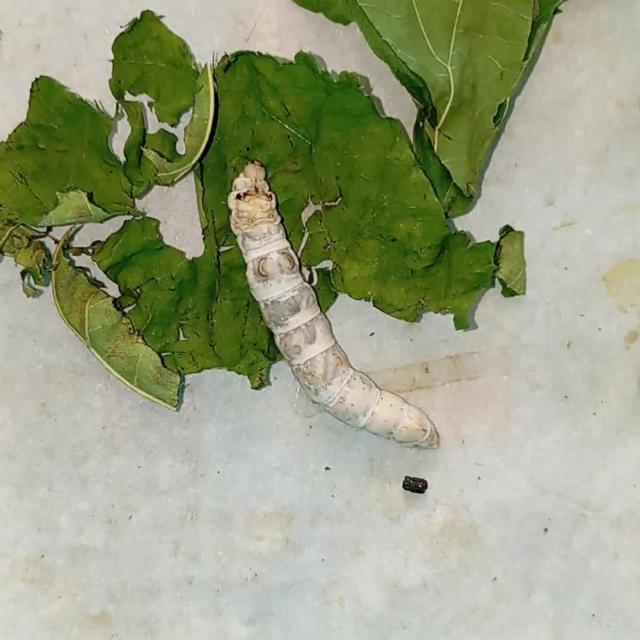Grasserie: (205, 145, 471, 481)
